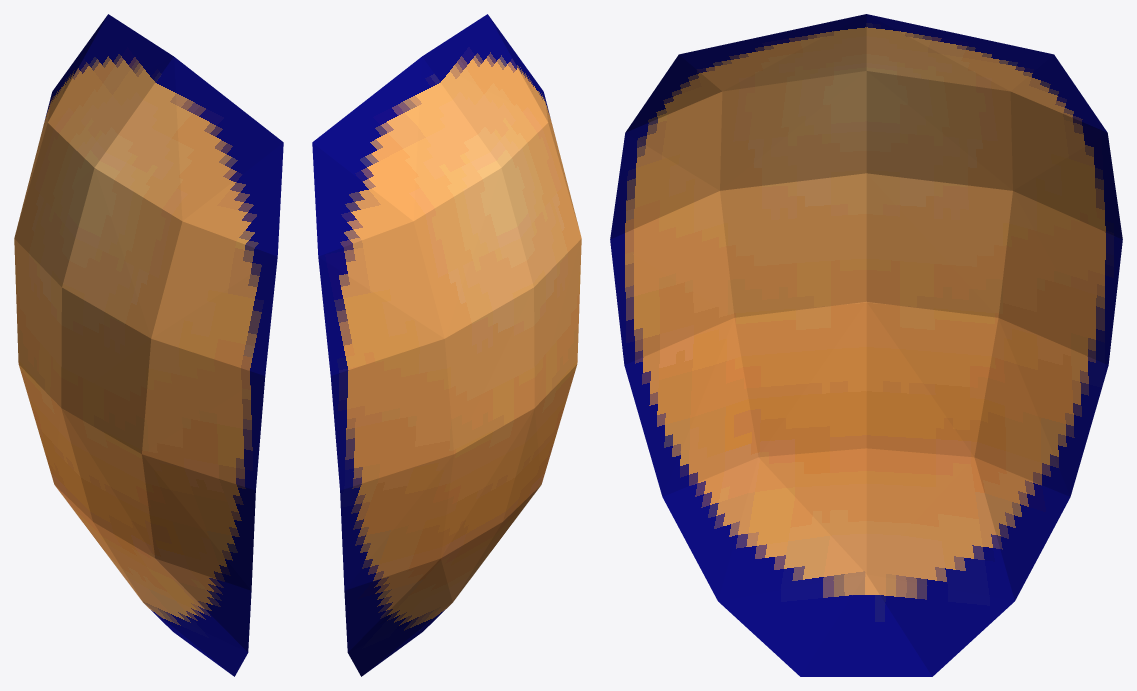
The picture shows the model from 3 angles, left to right: view 1: azimuth 30°, elevation 25°; view 2: azimuth 150°, elevation 25°; view 3: azimuth 270°, elevation 25°; orthographic projection. The views are drawn at different scales.
Visible parts, largest first — view 1: mesh_163BBF90DAEFE1E8; view 2: mesh_163BBF90DAEFE1E8; view 3: mesh_163BBF90DAEFE1E8.
Part boxes in pixels (bbox=[...]): mesh_163BBF90DAEFE1E8: bbox=[14, 14, 283, 676]; mesh_163BBF90DAEFE1E8: bbox=[312, 14, 581, 676]; mesh_163BBF90DAEFE1E8: bbox=[610, 14, 1122, 676].
Bounding box in the file's own units: 0.463 × 1.88 × 1.35.
